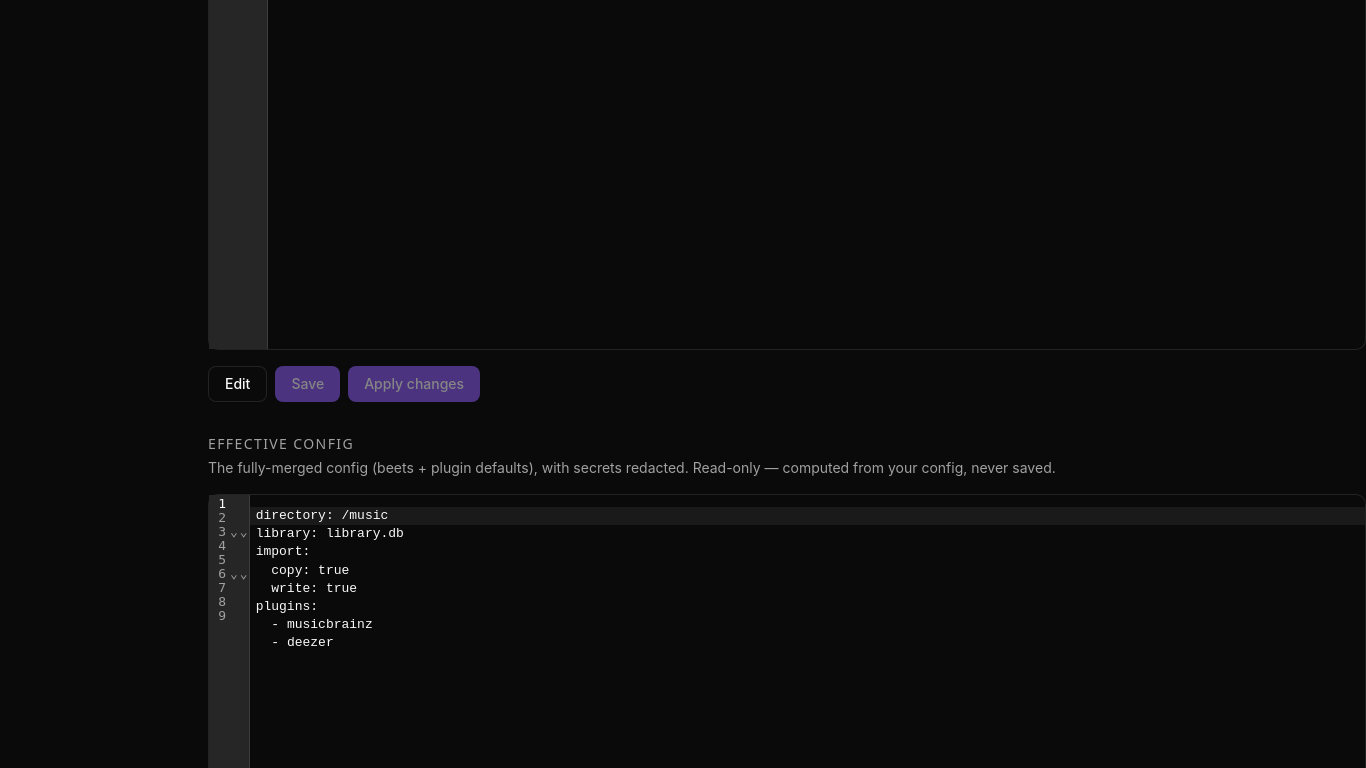
SettingsPage › typing transitions the page to dirty state
This screenshot has width=1366, height=768.
(page scrolled)
Click the button "Edit" at {"x": 238, "y": 384}, box 208,366 -> 267,402
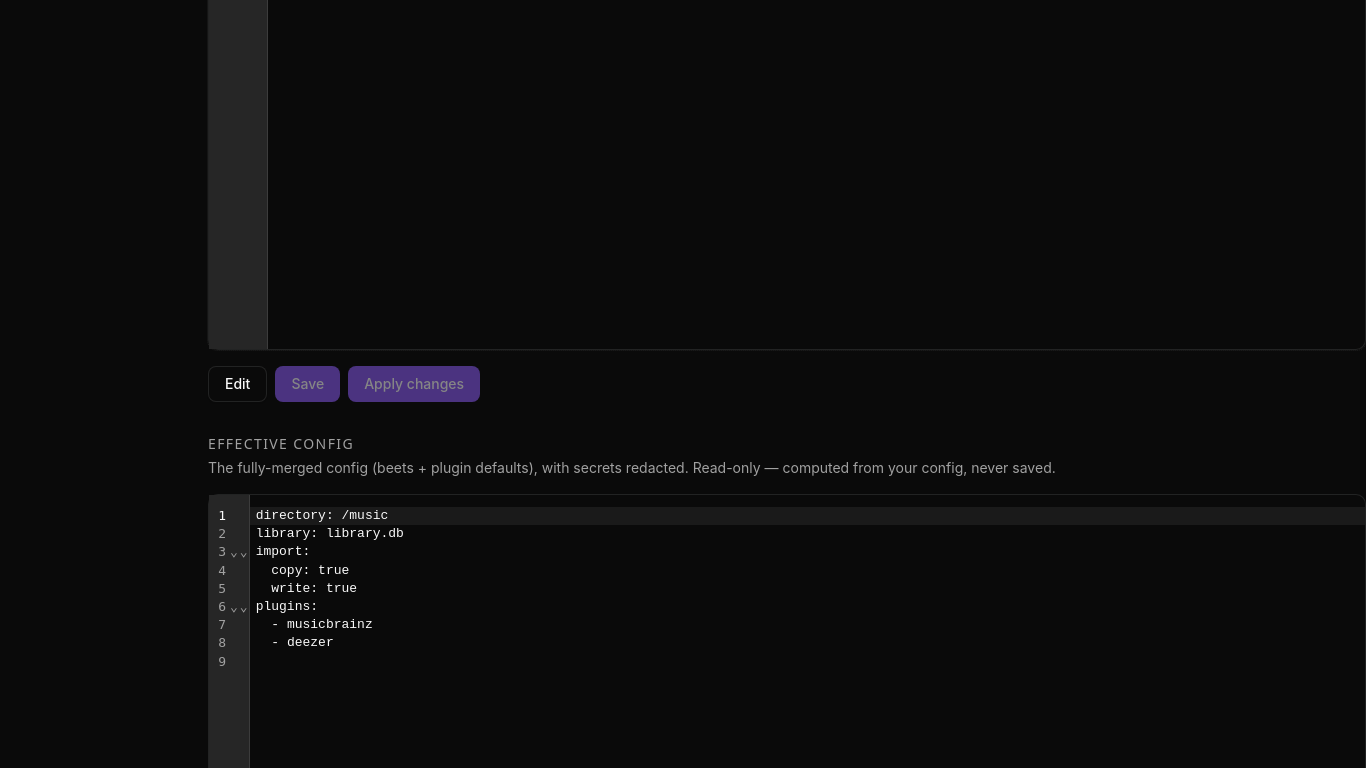
Type keys "x"
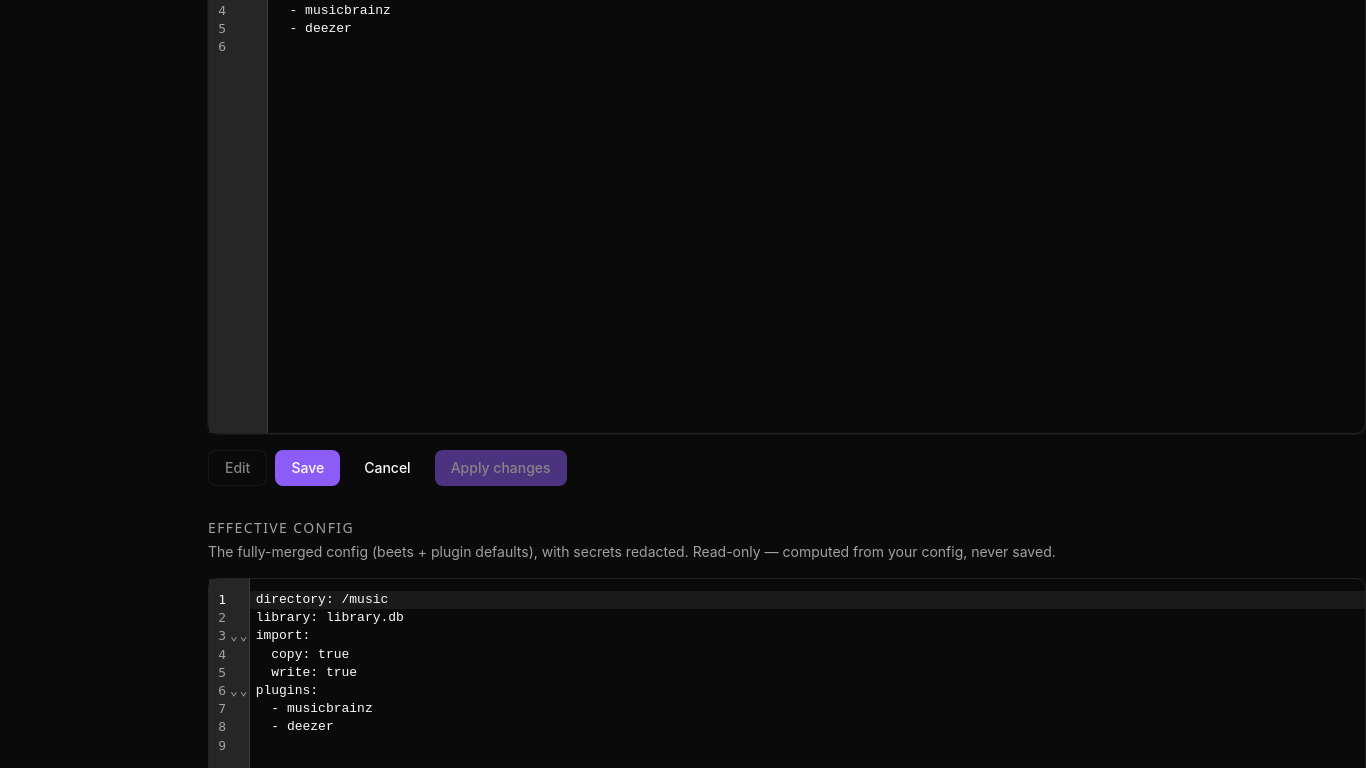
Expected: the button "Save" is enabled, 275,450 -> 340,486
